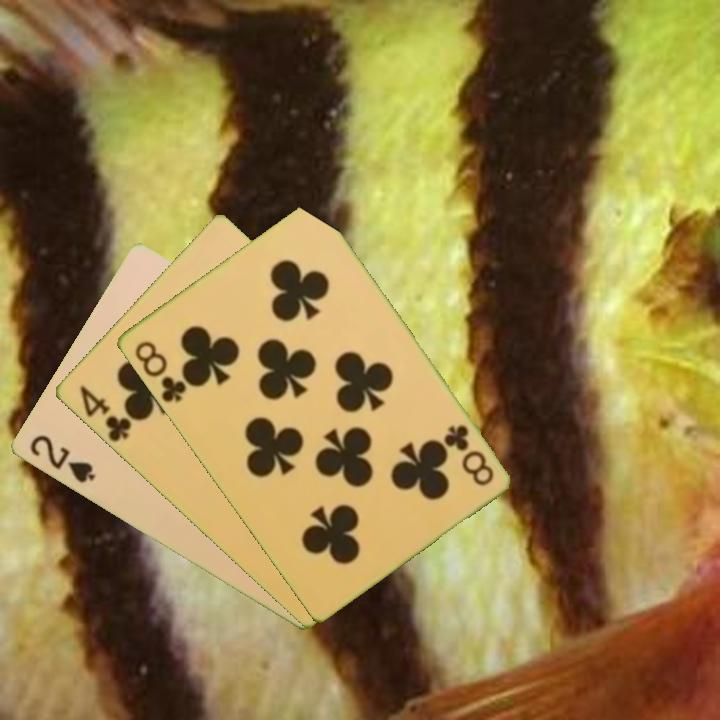2s: (25, 431, 98, 486)
4c: (75, 381, 134, 446)
8c: (130, 337, 189, 406), (439, 420, 497, 489)
